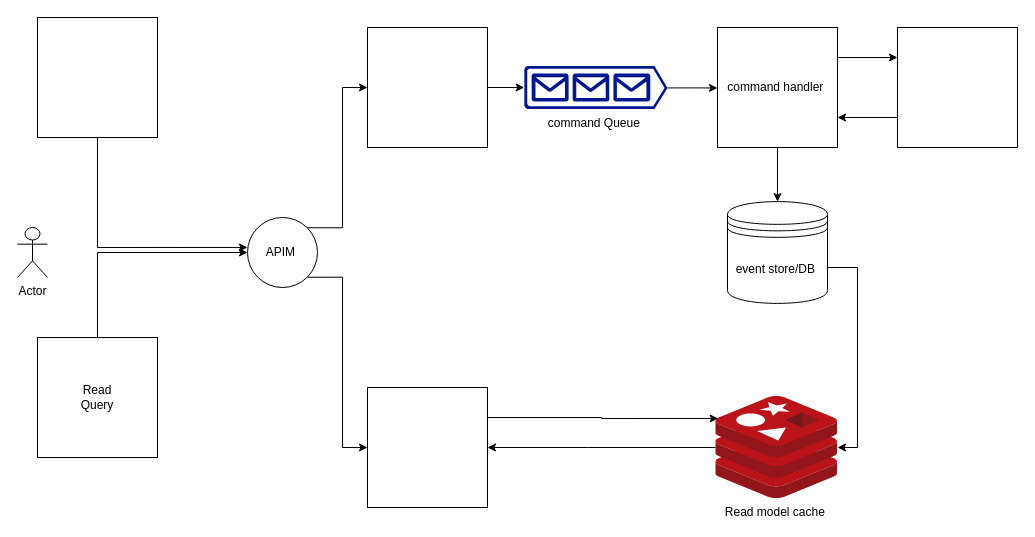
The diagram is 1035 pixels wide and 537 high, and some of its shapes have lost their labels. The box of each missing label's shape, as (x1, y1, x2, y2) in pixels:
Bank: (896, 26, 1018, 148)
Read API: (366, 386, 488, 508)
submit API: (366, 26, 488, 148)
submit command dto: (36, 16, 158, 138)
